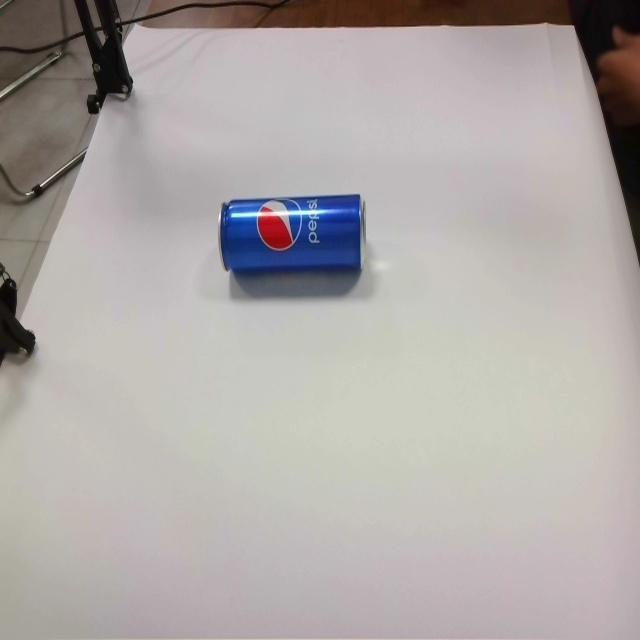debris: (218, 192, 366, 278)
